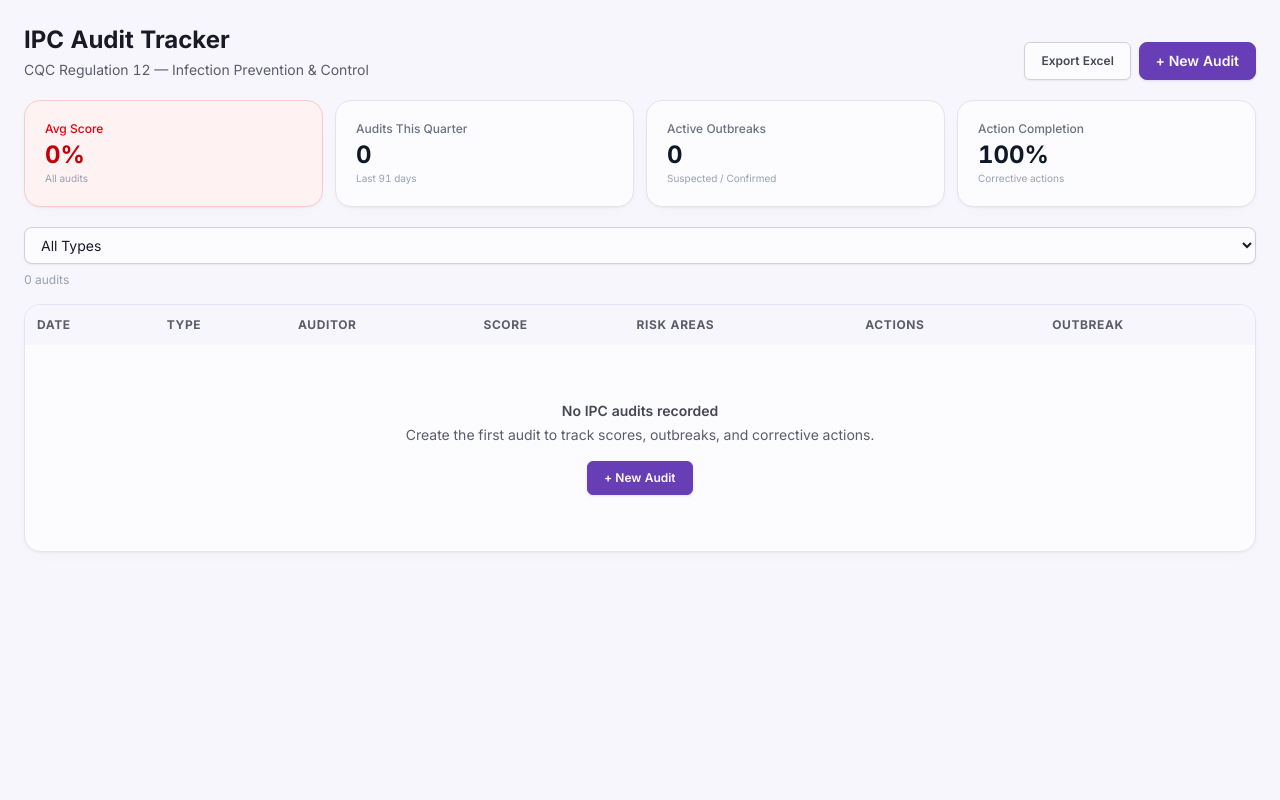
Test: IpcAuditTracker › hides legacy corrective-action writes when the V1 action freeze is enabled
The image size is (1280, 800).
Click the button "+ New Audit" in the row of "IPC Audit Tracker". click: x=1197, y=61
box: [1139, 42, 1256, 80]
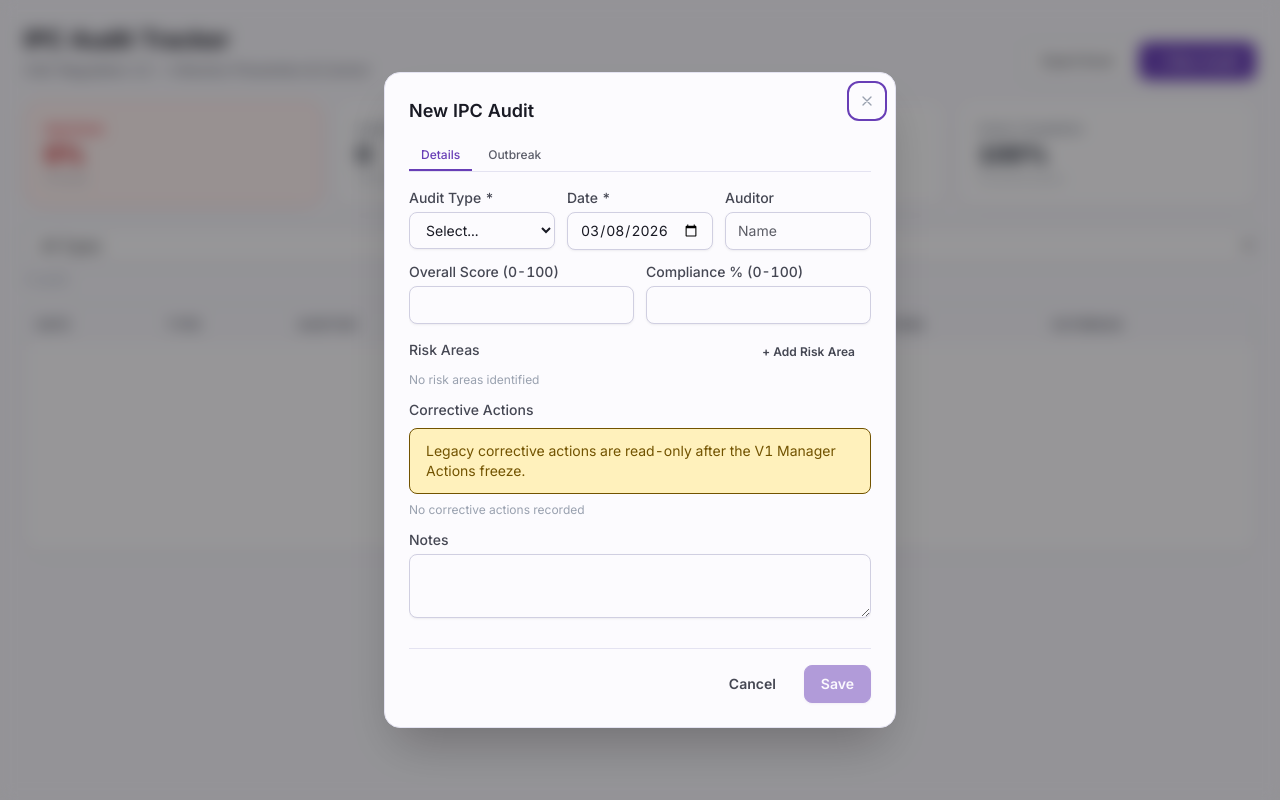
expect the text "Legacy corrective actions are read-only" is shown: met, box [426, 442, 836, 479]
